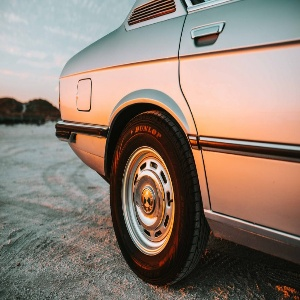train: (107, 111, 219, 293)
